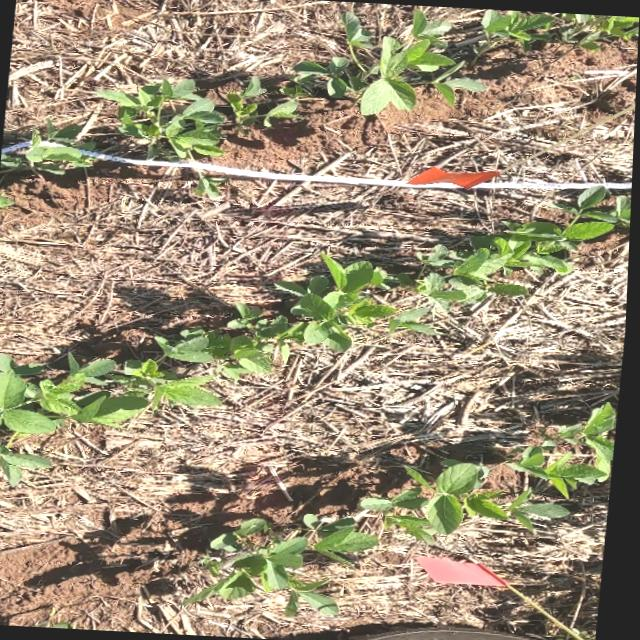soy_plant: (0, 188, 633, 484), (98, 8, 486, 159), (194, 513, 382, 615), (364, 459, 574, 542), (515, 402, 620, 497), (481, 8, 639, 48), (27, 132, 81, 163)
